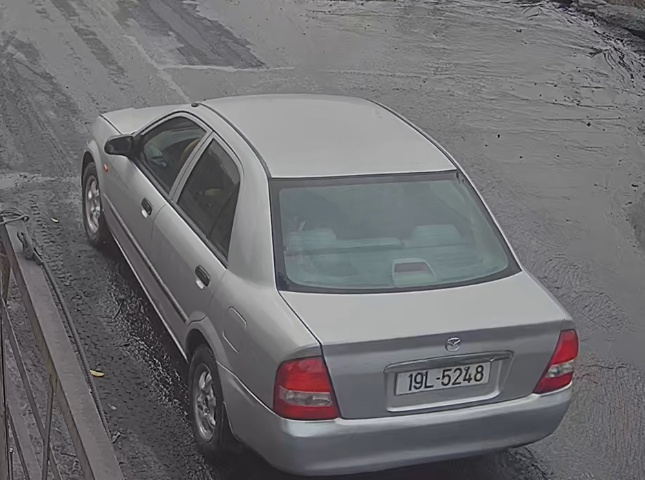vehicle plate: (393, 361, 495, 394)
